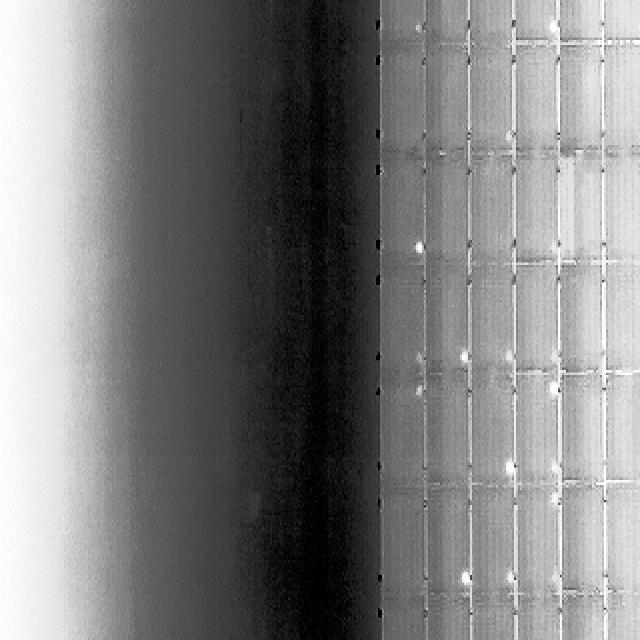Hotspots: (447, 566, 470, 592), (447, 346, 468, 370), (496, 458, 516, 482), (496, 568, 515, 593), (458, 567, 477, 591), (461, 346, 477, 370), (412, 240, 427, 263), (543, 379, 561, 398), (547, 564, 561, 585), (545, 487, 561, 505), (547, 15, 560, 37), (546, 237, 560, 256), (547, 460, 562, 476), (632, 122, 640, 142), (636, 15, 640, 35)
PV-modules: (514, 483, 562, 600), (422, 44, 472, 154), (423, 374, 471, 488), (420, 154, 468, 267), (514, 268, 562, 381), (424, 488, 471, 603), (515, 378, 562, 493), (515, 42, 562, 154), (516, 154, 563, 266), (378, 488, 423, 604), (377, 155, 423, 268), (465, 266, 511, 379), (377, 269, 423, 382), (468, 482, 512, 600), (558, 375, 605, 485), (377, 43, 423, 154), (558, 262, 604, 373), (558, 486, 604, 596), (466, 156, 511, 268), (422, 263, 467, 375), (559, 153, 604, 264), (471, 374, 515, 487), (467, 43, 511, 155), (559, 42, 603, 152), (381, 380, 425, 489), (602, 260, 640, 372), (602, 152, 640, 262), (604, 372, 640, 482), (604, 40, 640, 150), (420, 600, 518, 640), (604, 485, 640, 593), (420, 0, 468, 45), (514, 595, 562, 640), (558, 595, 605, 640), (512, 0, 560, 42), (378, 598, 426, 640), (380, 0, 424, 45), (468, 0, 512, 45), (556, 0, 602, 42), (422, 599, 469, 640), (600, 0, 640, 42), (606, 592, 640, 640), (471, 605, 517, 640)
